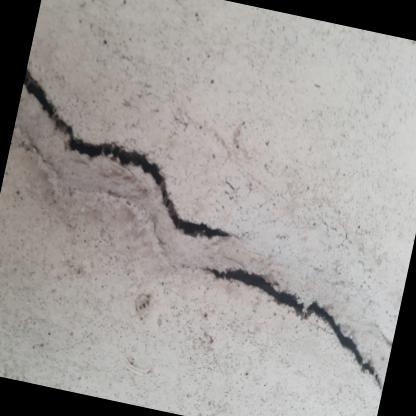crack: (21, 63, 229, 243), (204, 263, 384, 391)
